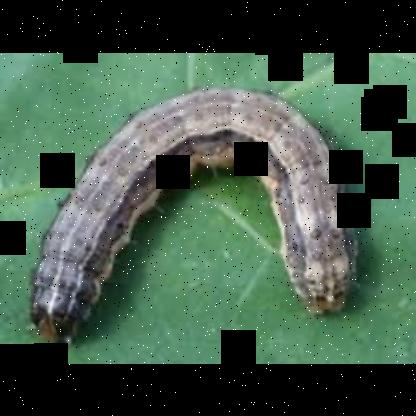oruga: (23, 68, 357, 346)
